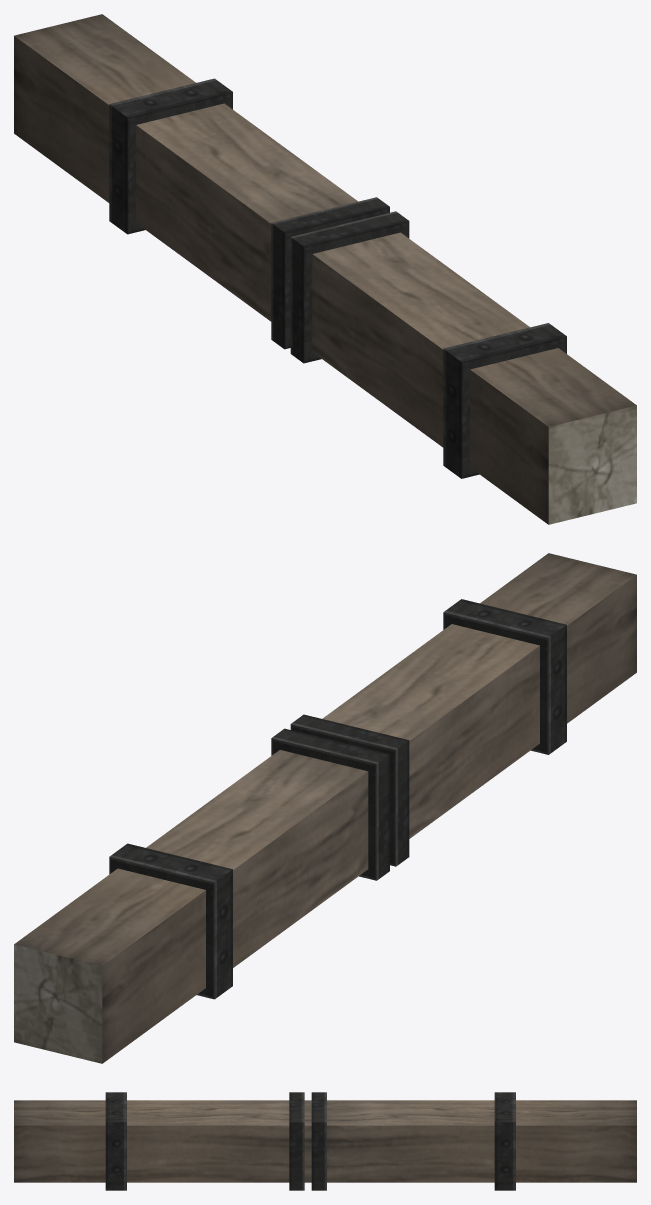
File: Pillar_B.fbx
3 views of the same model, one above another, from view 1: azimuth 30°, elevation 25°; view 2: azimuth 150°, elevation 25°; view 3: azimuth 270°, elevation 25° (orthographic). The views are drawn at different scales.
Visible parts, largest first — view 1: Pillar_B; view 2: Pillar_B; view 3: Pillar_B.
Boxes of the visible parts, box(x1,y1,x2,y2) form: Pillar_B: box(14, 14, 636, 524); Pillar_B: box(14, 553, 636, 1063); Pillar_B: box(14, 1092, 636, 1190).
Size of the model in its own units: 0.4573 by 0.4842 by 4.01.
